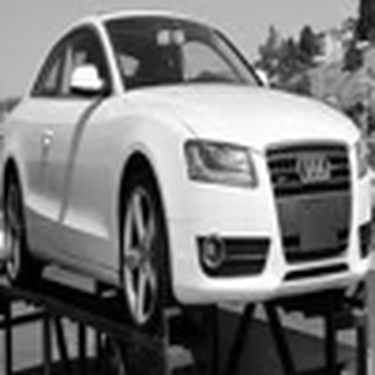car: (1, 9, 367, 332)
